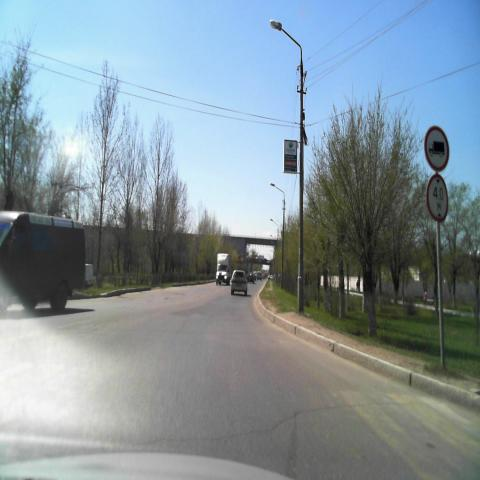3_13: (426, 172, 449, 223)
3_4_1: (424, 126, 450, 171)
